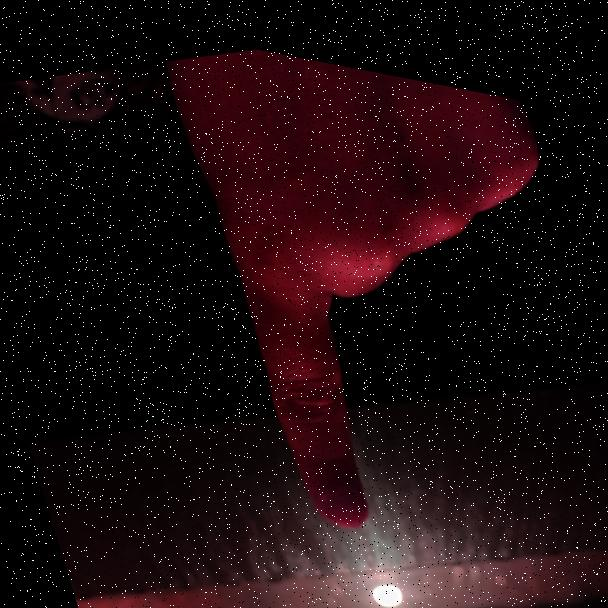one: (135, 21, 608, 576)
